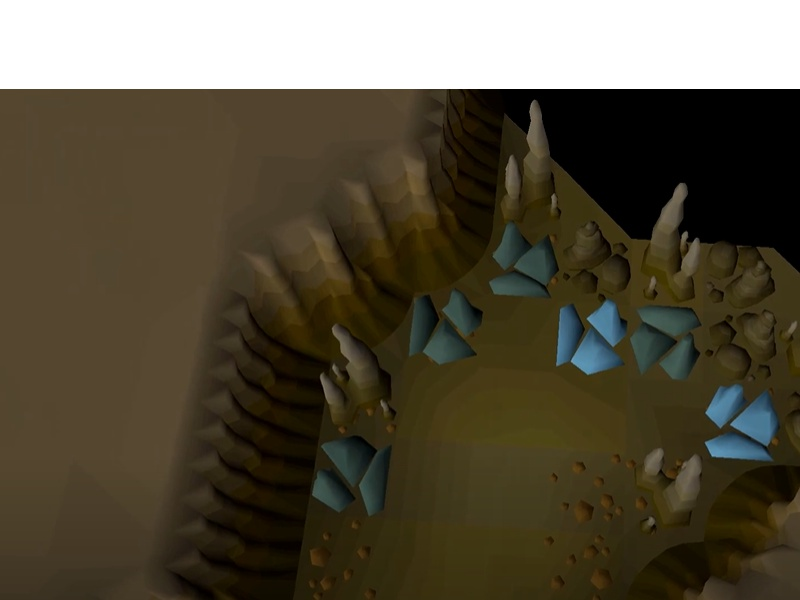adamant: (308, 432, 397, 519), (405, 287, 486, 368), (485, 220, 562, 302), (631, 300, 705, 383)
rune: (701, 380, 783, 466), (552, 297, 631, 378)
